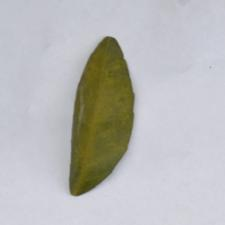Greening: (47, 22, 145, 200)
